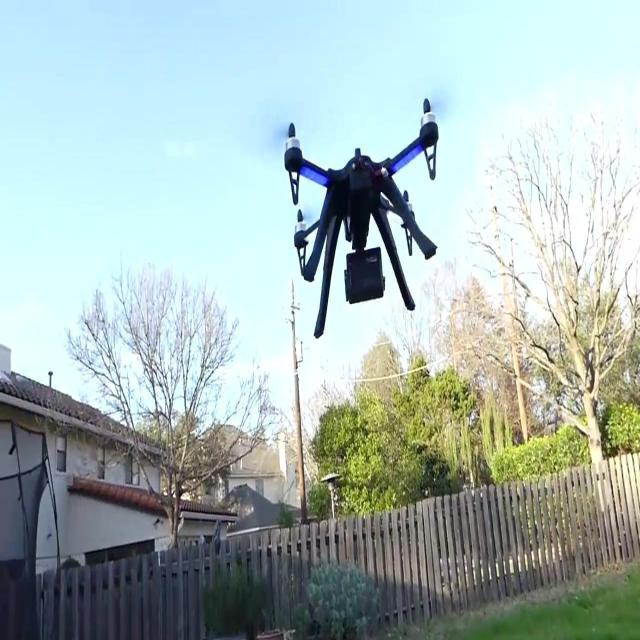drone: (284, 93, 444, 342)
